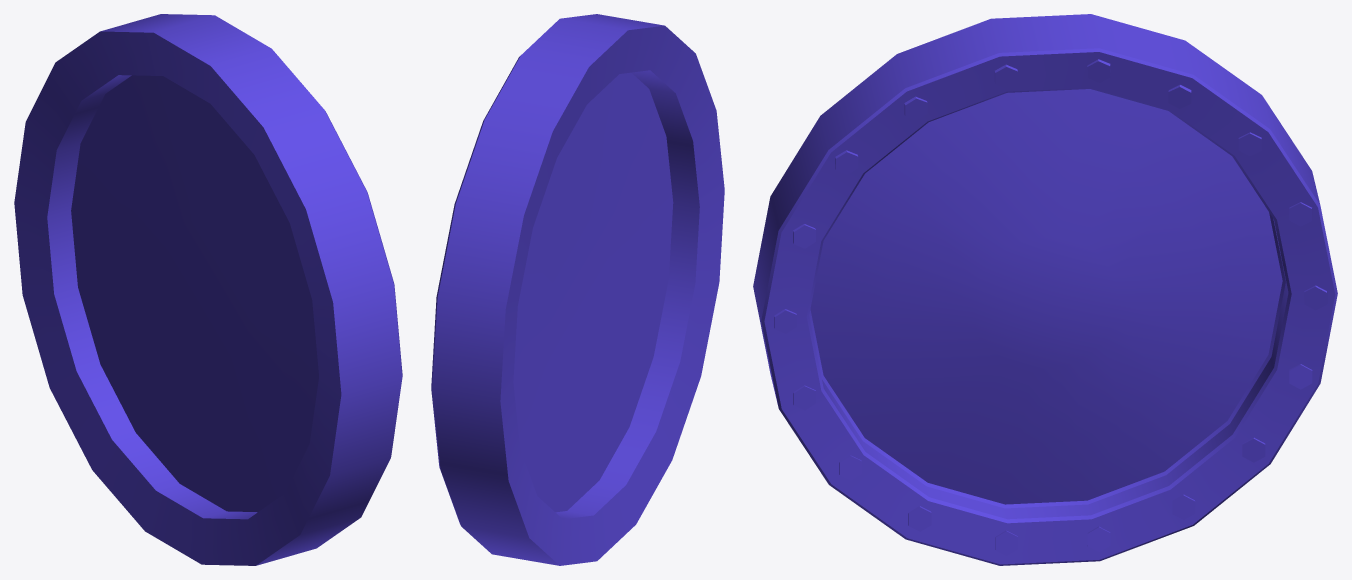
File: hublot.FBX
3 views of the same model, side by side, from view 1: azimuth 30°, elevation 25°; view 2: azimuth 150°, elevation 25°; view 3: azimuth 270°, elevation 25° (orthographic). The views are drawn at different scales.
Visible parts, largest first — view 1: hublot; view 2: hublot; view 3: hublot.
Boxes of the visible parts, <box> form: hublot: <box>14,14,402,565</box>; hublot: <box>431,14,724,565</box>; hublot: <box>753,14,1337,565</box>.
Size of the model in its own units: 30.74 by 124 by 127.
